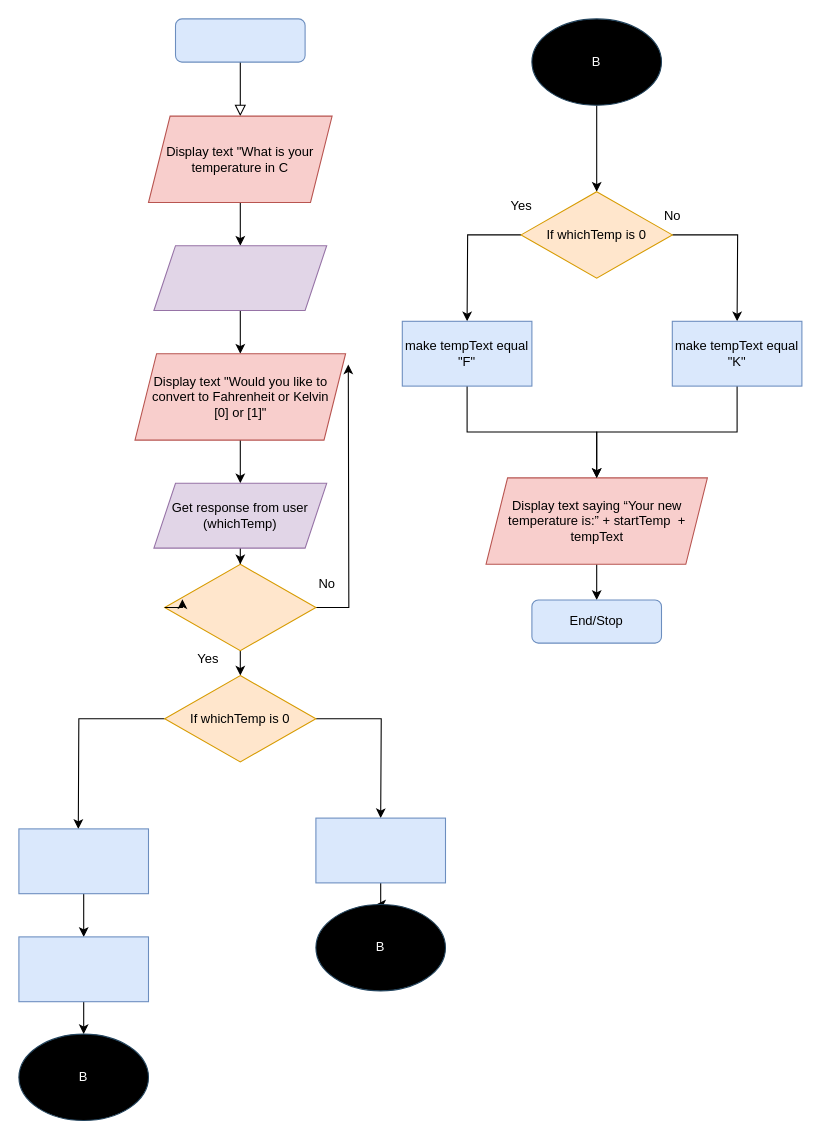
Some shapes in this 821 by 1139 pixel diagram are drawn without their labels. The centre of each missing label's shape, as x and y in pixels:
"Apply startTemp * 9/5" belongs at point (83, 861).
"Apply startTemp + 273.15" belongs at point (380, 850).
"Apply startTemp + 32" belongs at point (83, 969).
"Get response from user (startTemp)" belongs at point (240, 277).
"Is whichTemp 0 or 1" belongs at point (240, 607).
"Start" belongs at point (239, 40).
